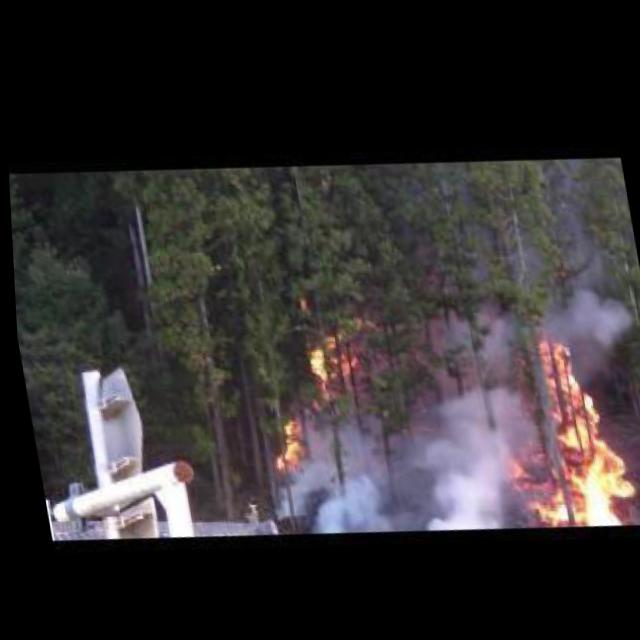Fire: (484, 309, 640, 525), (309, 325, 363, 397), (265, 409, 306, 466)
